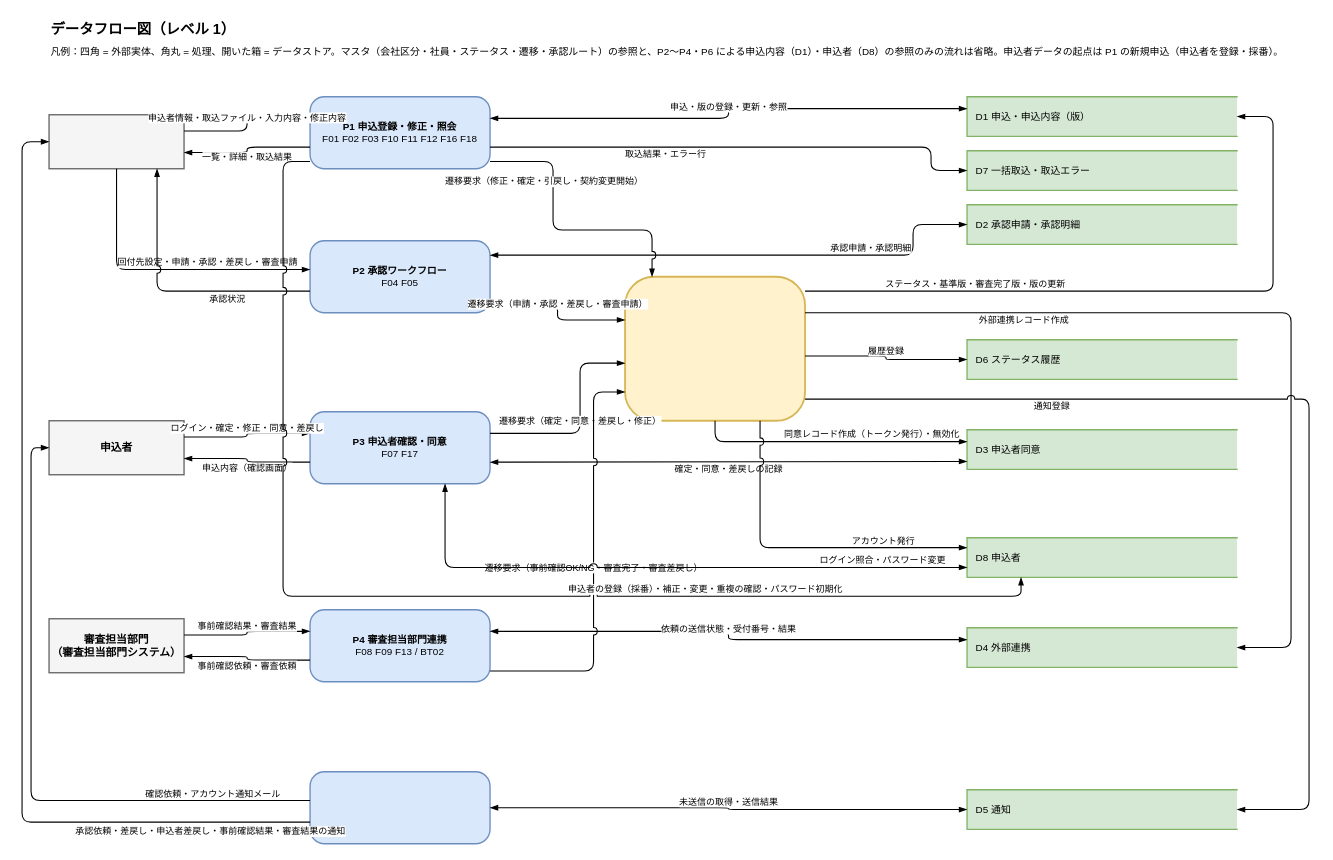
Some shapes in this 1333 by 860 pixel diagram are drawn without their labels. Here are the shapes that lost their labels. From the top down, the centre of each, then its label:
[116,141]: 申込受付会社 （担当者・承認者・管理者）
[715,348]: P5 ステータス遷移制御 F14 遷移判定・操作者照合 ステータス更新・履歴登録 後続処理の登録
[399,807]: P6 通知送信 F06 / BT01
